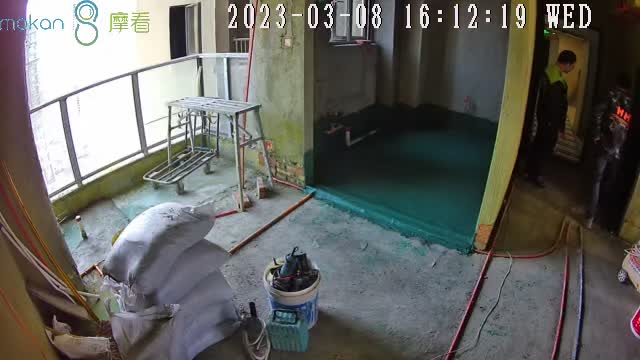people: (524, 50, 578, 187)
window: (26, 1, 204, 180)
